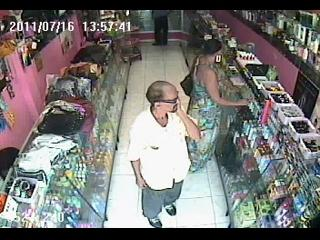Normal: (127, 80, 203, 228), (186, 38, 252, 172), (152, 10, 172, 46)
